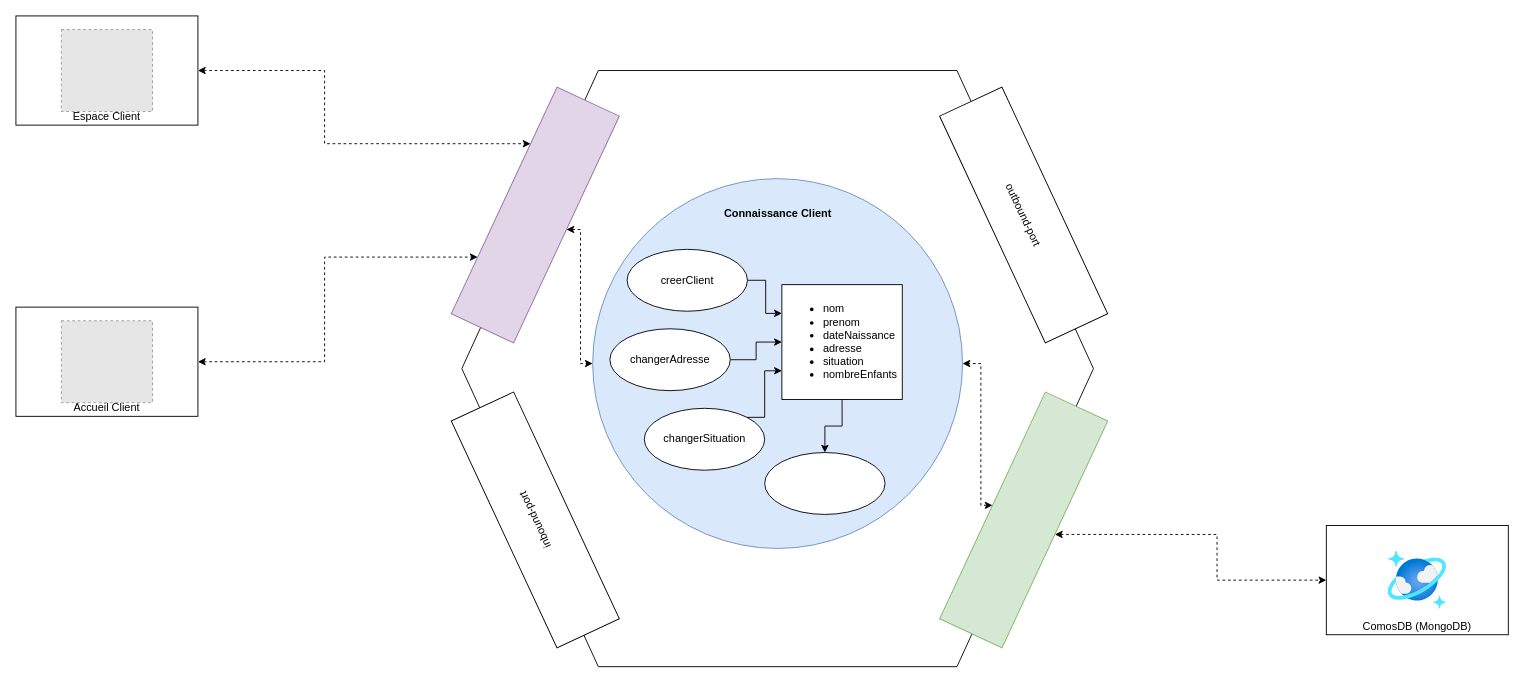
Some shapes in this 1524 by 683 pixel diagram are drawn without their labels. Grey dashed boxes stand in for pictures. Here are the shapes that lost their labels. From the top down, the centre of each, then its label:
At pixel 534 214: "API".
At pixel 824 483: "voirInformations".
At pixel 1023 519: "DB Repository (CosmosDB)".
